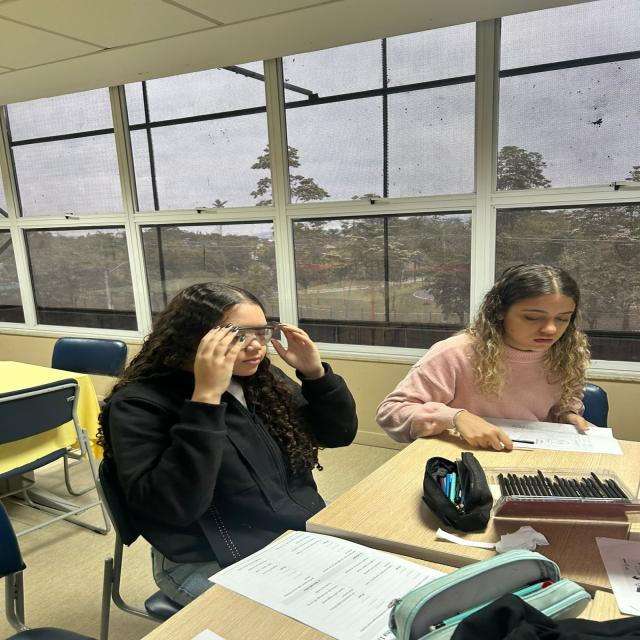oculos-epi: (228, 326, 276, 348)
sem_oculos: (503, 295, 580, 331)
